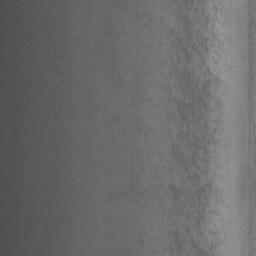Silk spot: (152, 0, 232, 256), (132, 72, 153, 105), (133, 118, 158, 145), (136, 10, 164, 32), (124, 174, 144, 196), (136, 232, 150, 248)
